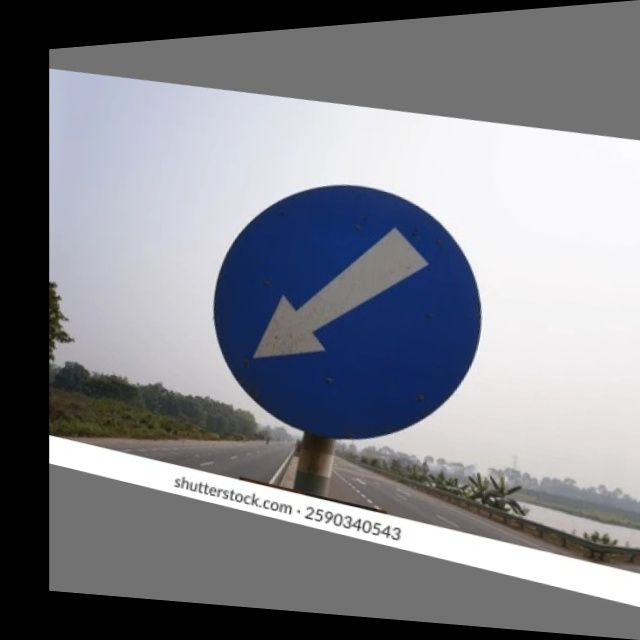Compulsory_Keep_Left: (195, 157, 502, 469)
